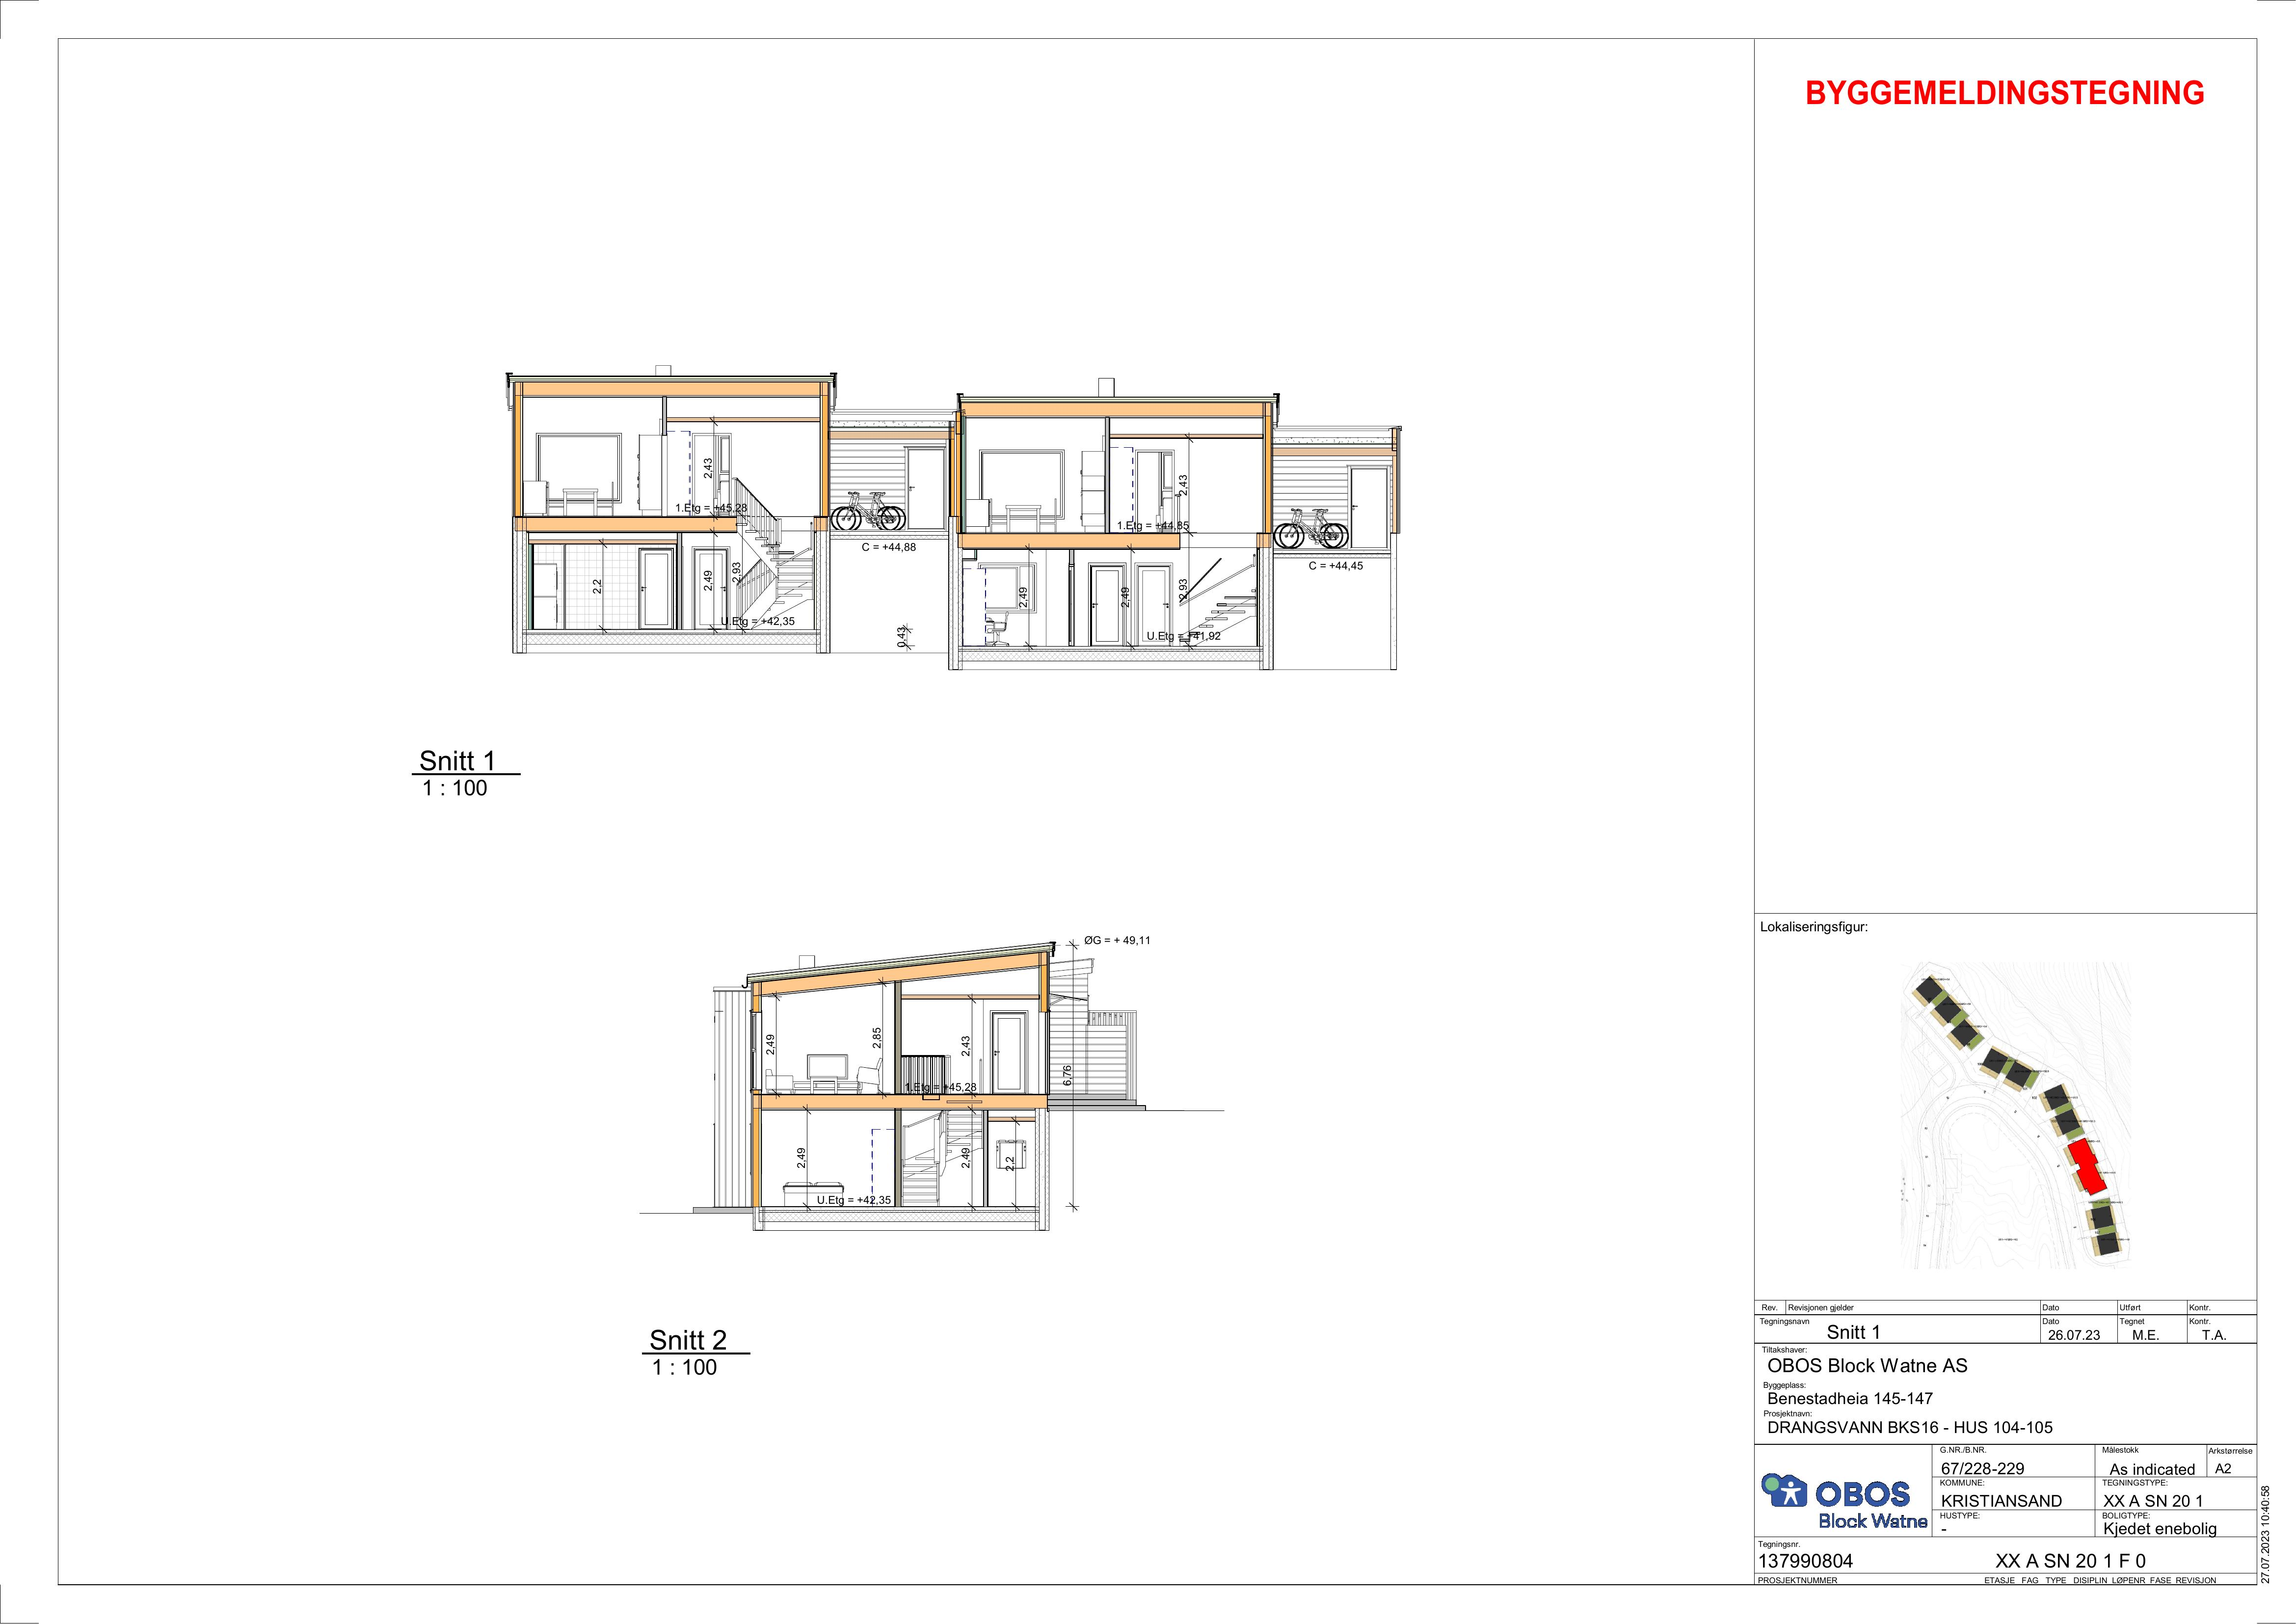snitt: (471, 346, 1414, 692), (687, 932, 1159, 1251)
